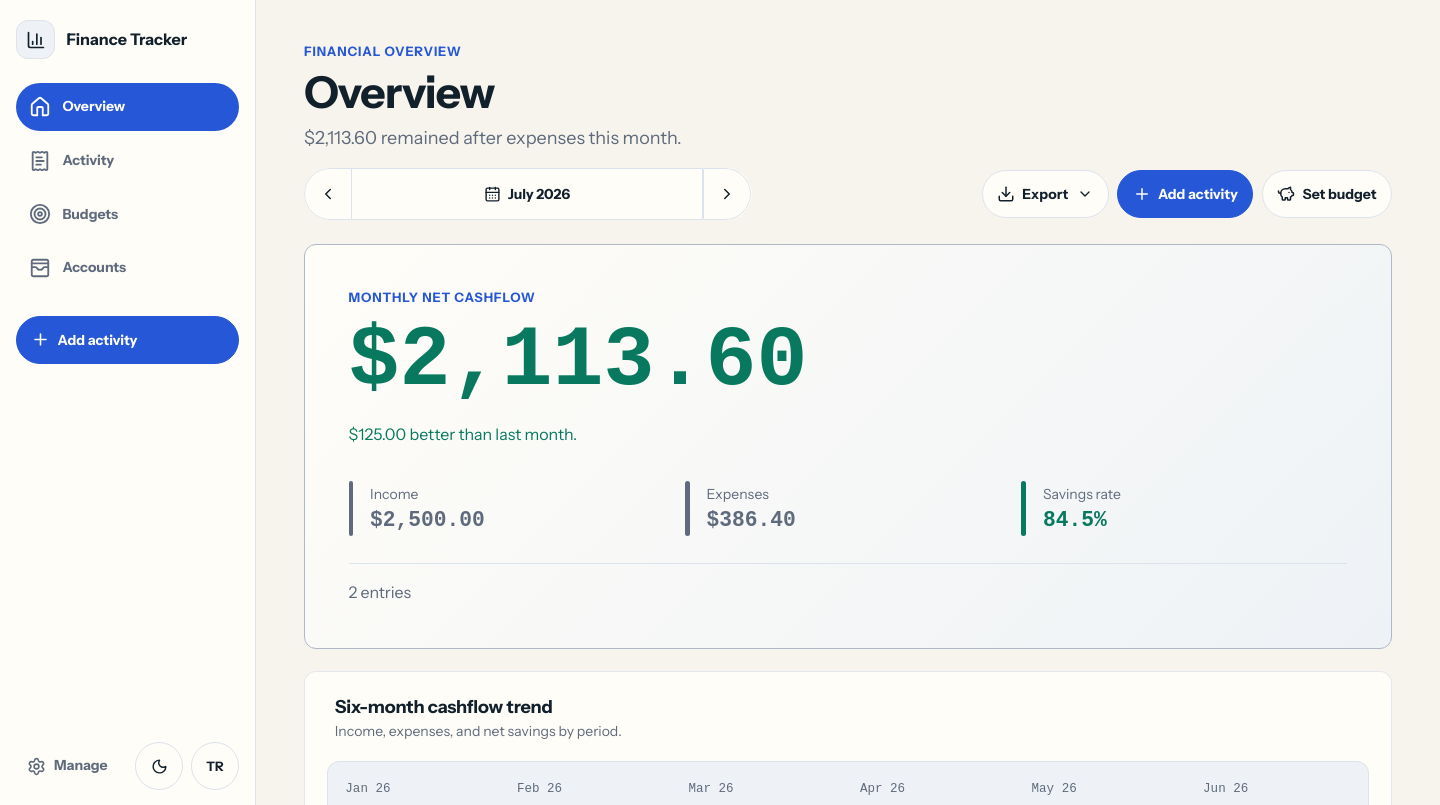
app composition › keeps the global command tied to Add activity
The width and height of the screenshot is (1440, 805).
Click the link "Budgets" at coordinates (73, 214), box [29,203,118,225]
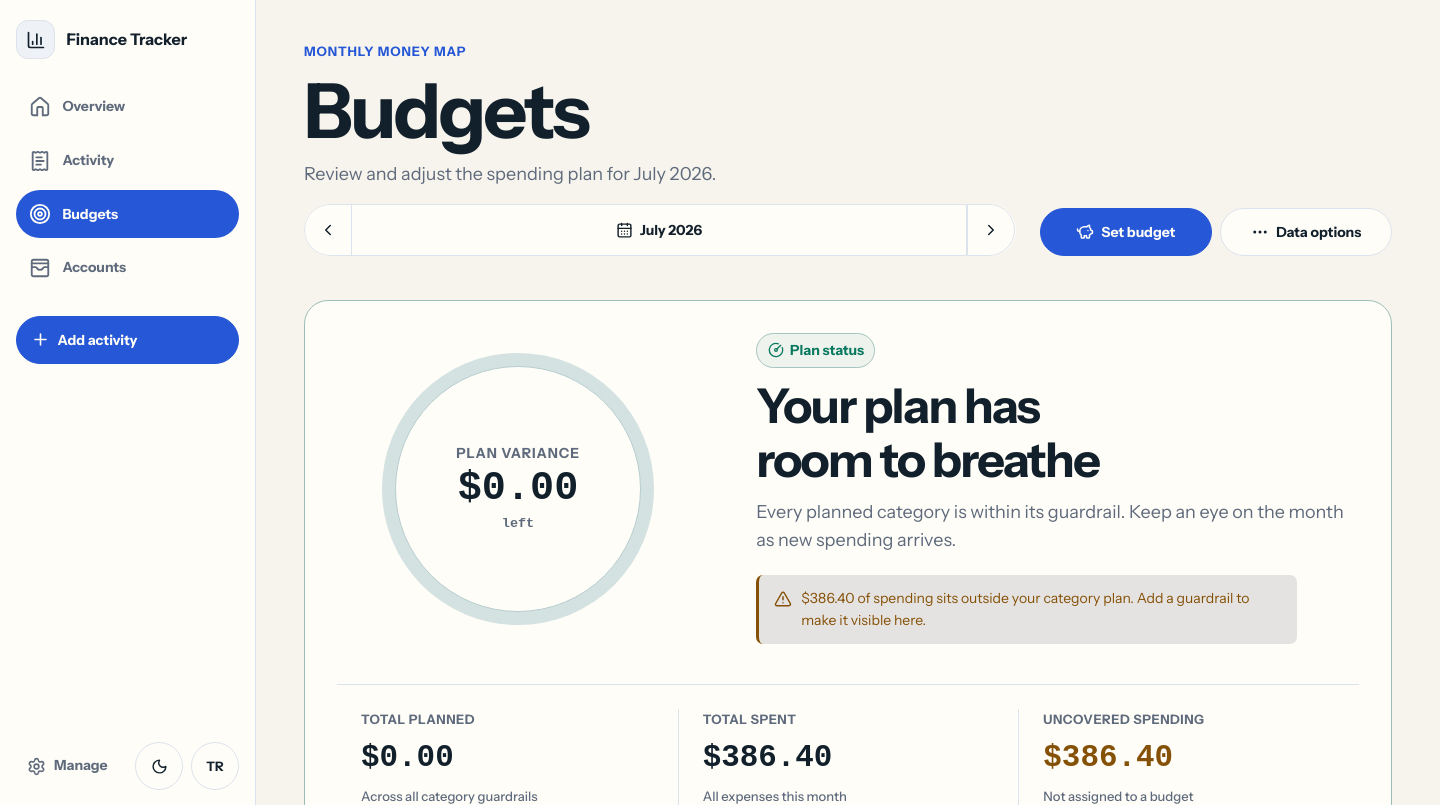
Now the heading "Budgets" is shown, box [304,64,588,157]
Click the button with class "rail-create" at coordinates (128, 340), box [16,316,239,364]
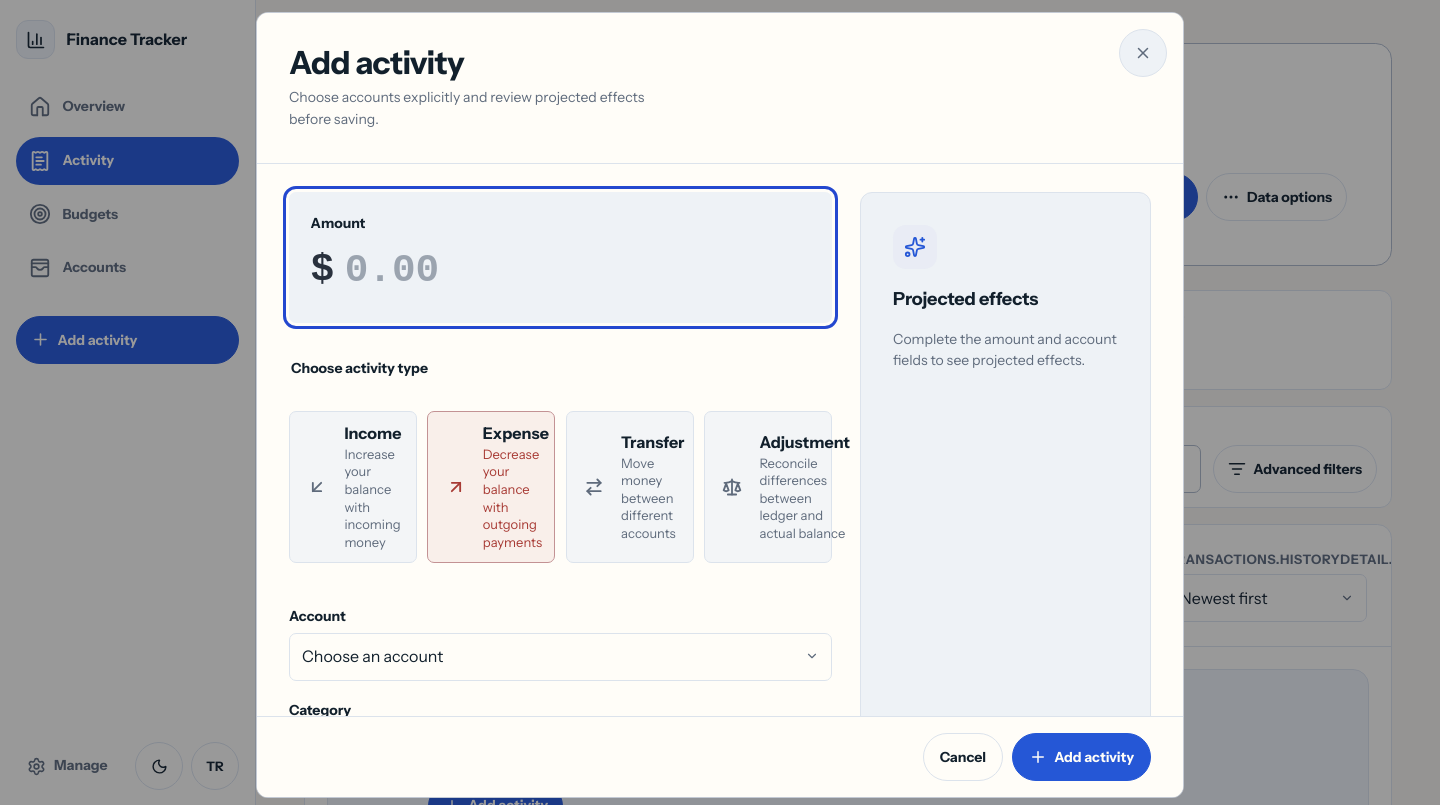
Now the dialog "Add activity" is shown
